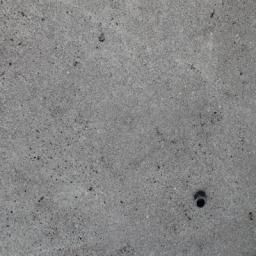FOD: (190, 188, 211, 212)
